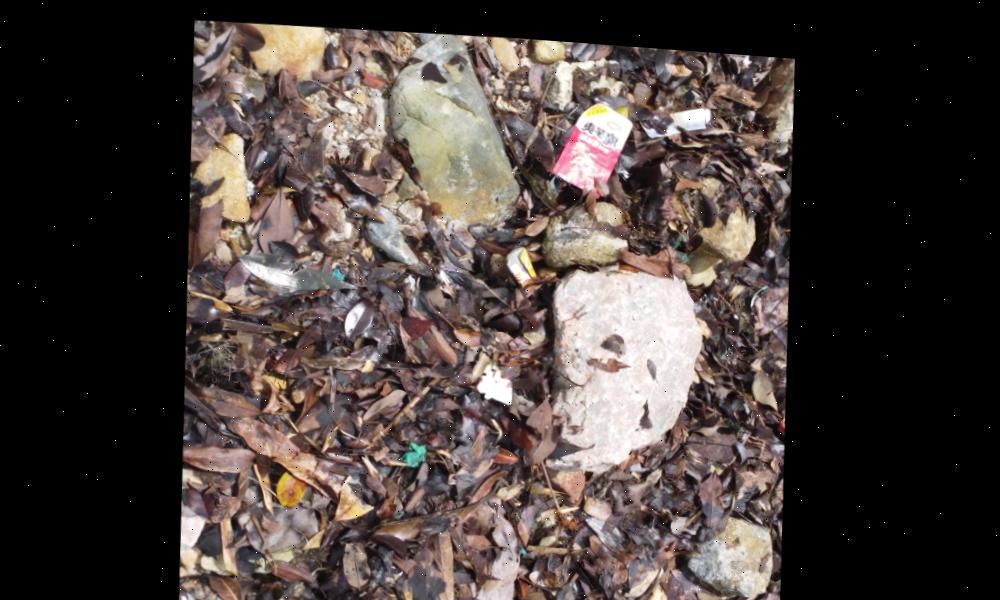plastic container: (558, 90, 636, 185)
